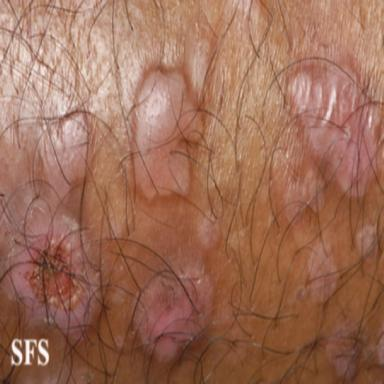Epidermolysis-Bullosa-Pruriginosa: (2, 208, 97, 342), (289, 60, 379, 198), (133, 71, 203, 200), (134, 257, 211, 360), (41, 111, 89, 200), (285, 160, 323, 220), (307, 238, 340, 301), (325, 335, 364, 383), (191, 40, 209, 100), (355, 225, 377, 259), (198, 218, 219, 249), (377, 331, 384, 364)
